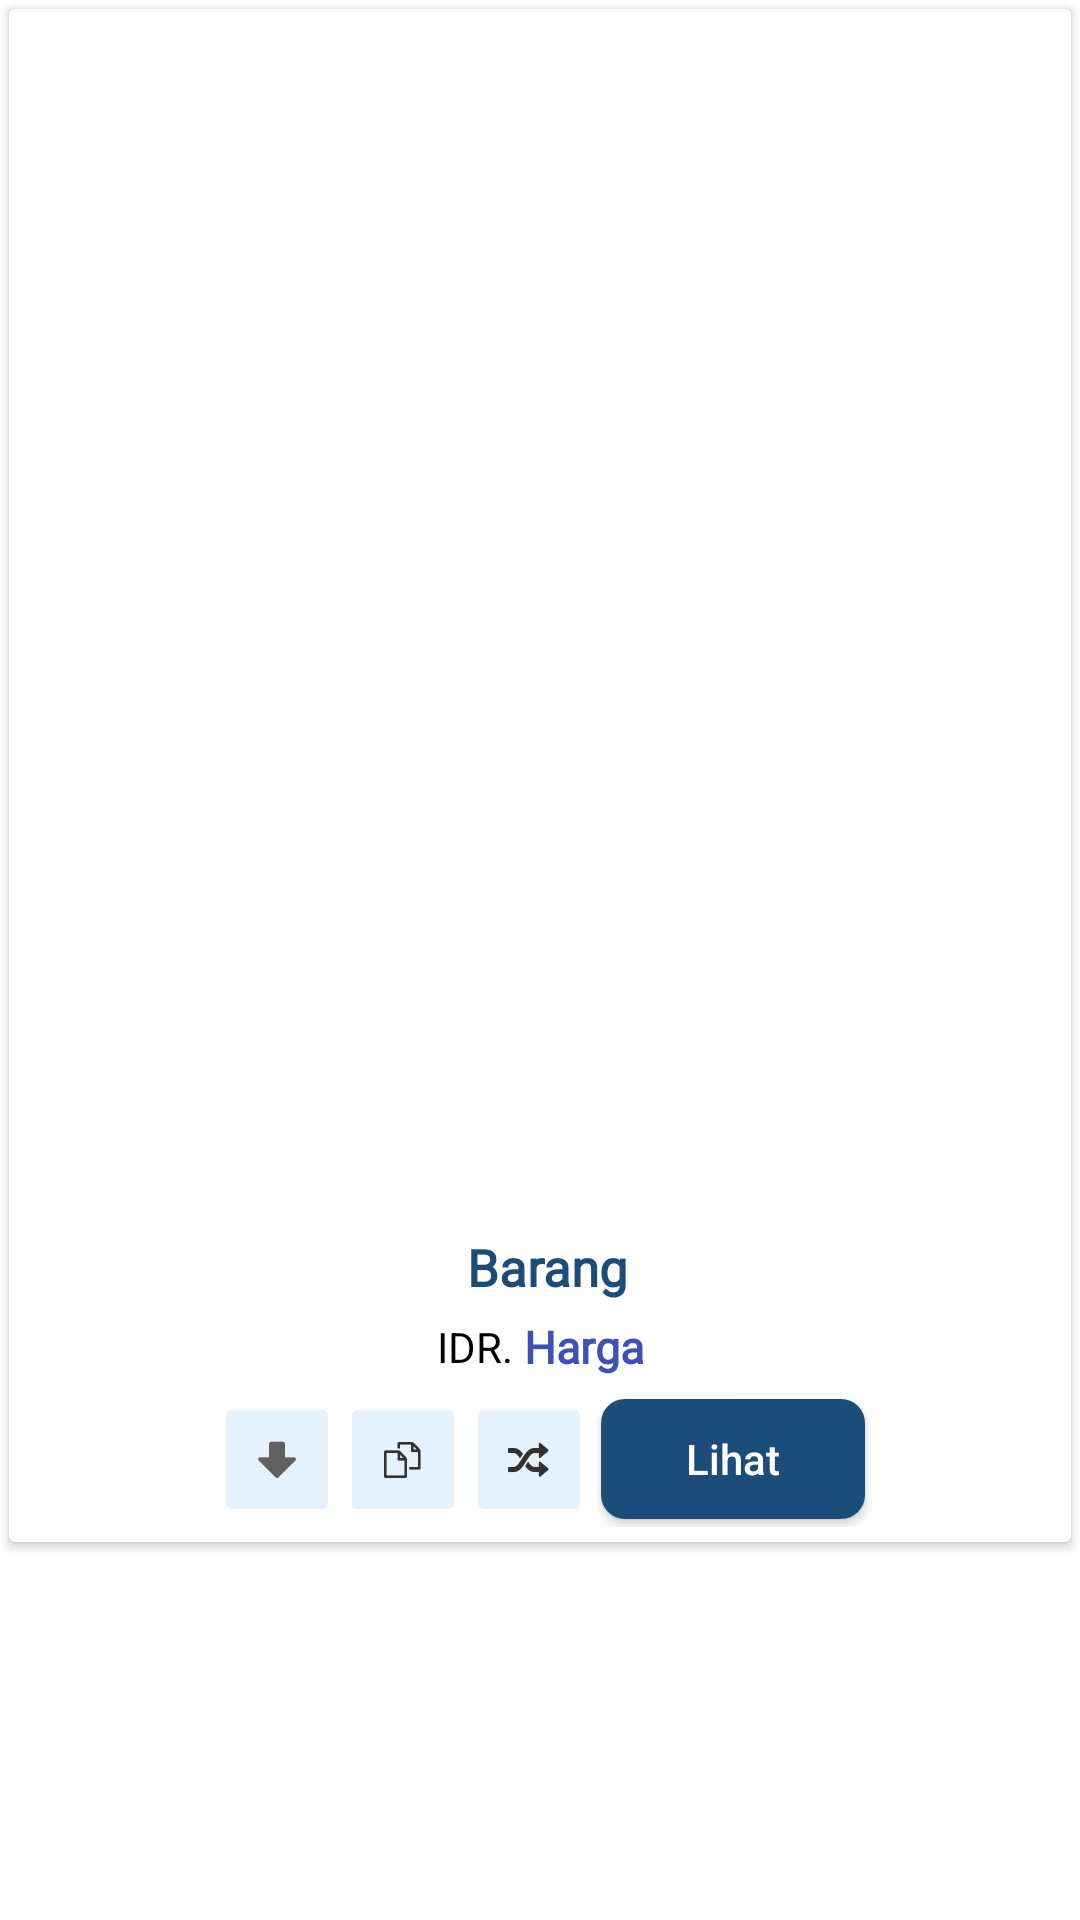

Icon click points for this 1080px x 1920px phone screenshot, format (x=x, y=y):
arrowdown: (x=277, y=1459)
shuffle: (x=529, y=1459)
